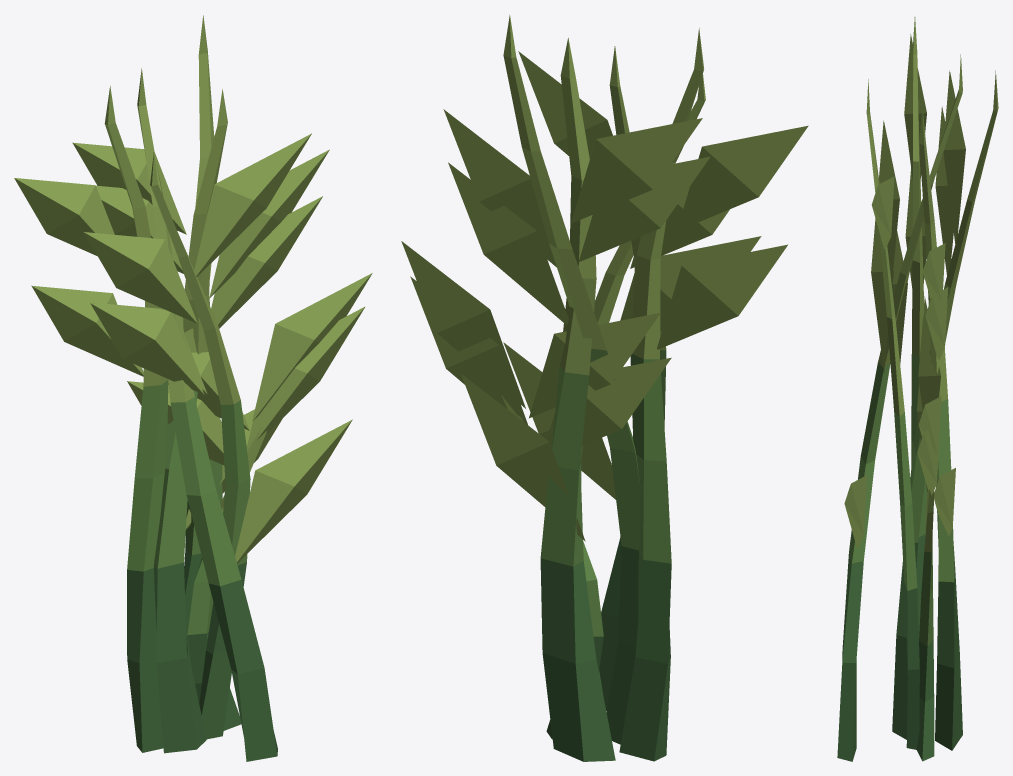
The model's file is Kelp_0.glb.
The picture shows the model from 3 angles, left to right: view 1: azimuth 30°, elevation 25°; view 2: azimuth 150°, elevation 25°; view 3: azimuth 270°, elevation 25°; orthographic projection. The views are drawn at different scales.
Visible parts, largest first — view 1: Kelp_0; view 2: Kelp_0; view 3: Kelp_0.
Part boxes in pixels (x1,y1,x2,y2): Kelp_0: (14,15,372,761); Kelp_0: (401,15,808,761); Kelp_0: (837,17,998,761).
Bounding box in the file's own units: 1.31 × 2.33 × 0.4935.
